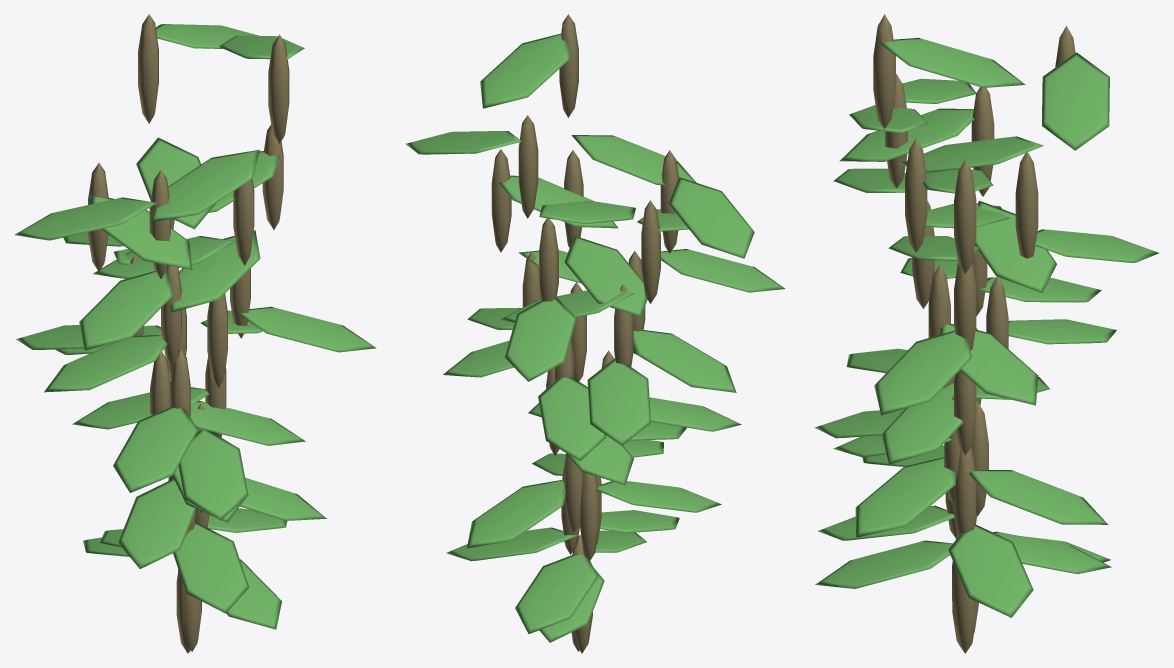
File: plant.glb
The picture shows the model from 3 angles, left to right: view 1: azimuth 30°, elevation 25°; view 2: azimuth 150°, elevation 25°; view 3: azimuth 270°, elevation 25°; orthographic projection. The views are drawn at different scales.
Bounding box in the file's own units: 1.1 × 2.08 × 0.9757.
